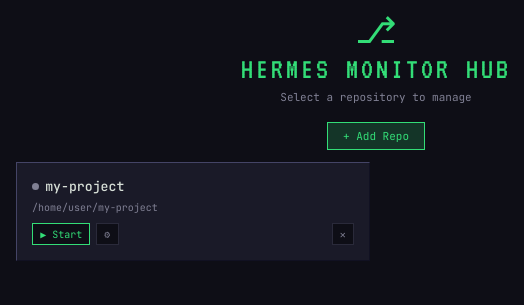
Test: HubLanding › dismisses error when clicked
Click the button "▶ Start" at coordinates (61, 234), box [32,223,90,245]
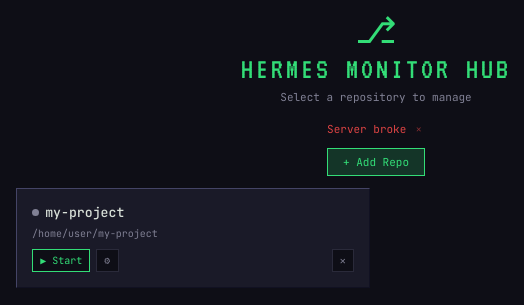
Result: the text "Server broke ✕" is shown at [327,122,425,136]
// Click the dismiss button to dismiss the error
Click the button named "Dismiss error" at coordinates (419, 129), box [412,122,425,136]
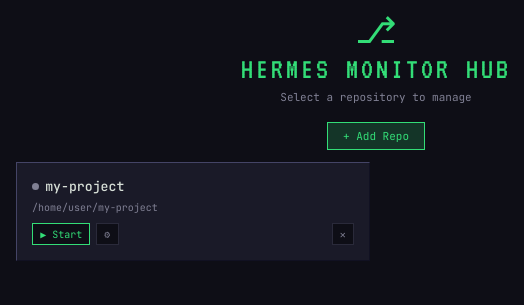
Result: the text "Server broke" is gone
